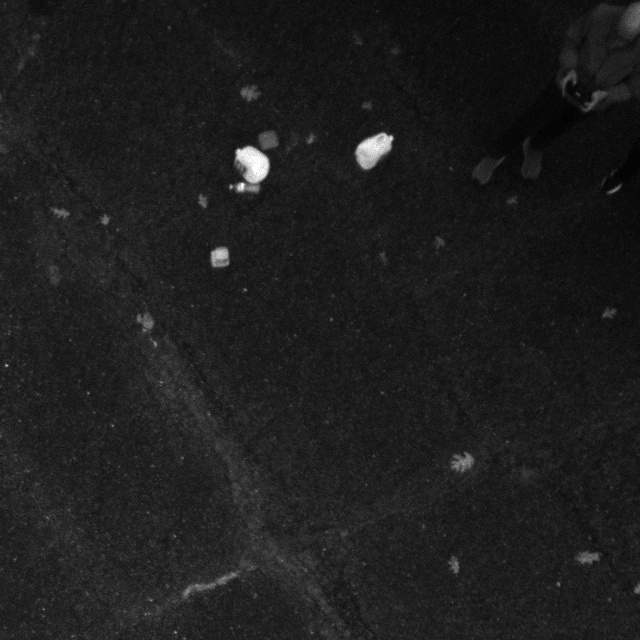bottle: (223, 177, 265, 197)
can: (351, 127, 398, 173), (228, 142, 273, 185)
container: (205, 241, 233, 271), (255, 125, 282, 154)
